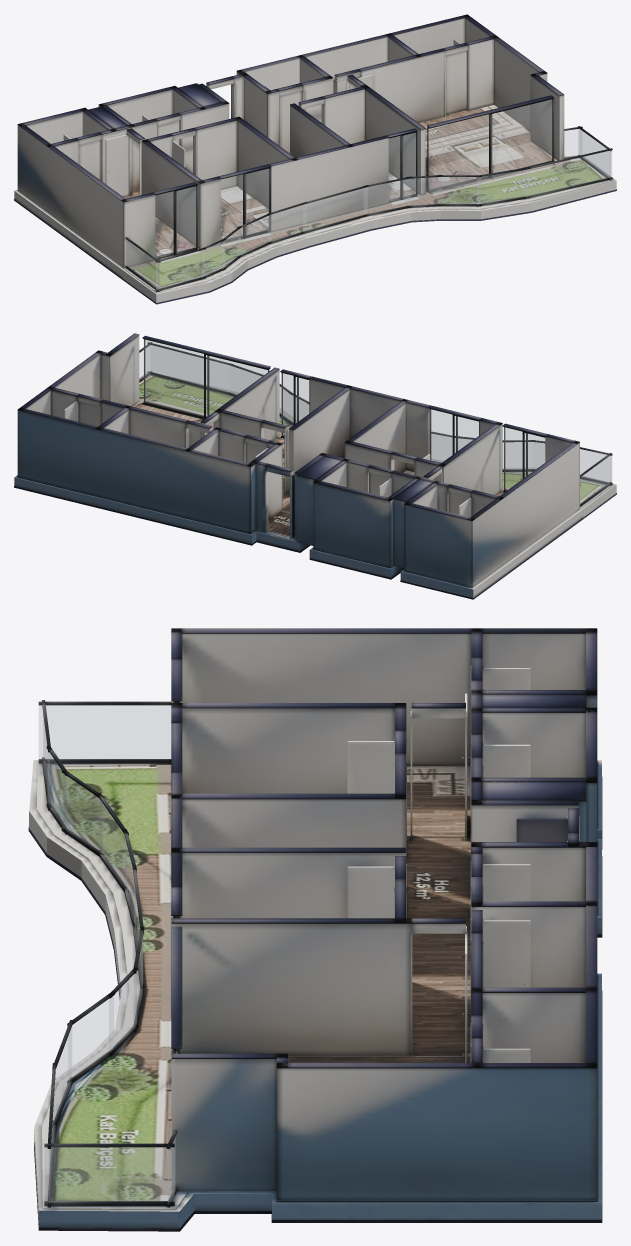
3 views of the same model, one above another, from view 1: azimuth 30°, elevation 25°; view 2: azimuth 150°, elevation 25°; view 3: azimuth 270°, elevation 25° (orthographic). The views are drawn at different scales.
Visible parts, largest first — view 1: plan, glass3_m, glass1_m, glass0_m, railg3_m, railg9_m, railg4_m, glass2_m, railg8_m, railg7_m, railg5_m, railg10_m (+7 smaller); view 2: plan, glass3_m, railg3_m, glass0_m, glass1_m, glass2_m, railg2_m, railg8_m, railg12_m, railg10_m, railg4_m; view 3: plan, railg1_m, railg2_m, railg5_m, railg12_m, railg6_m, railg11_m, railg13_m, railg4_m.
Part boxes in pixels (x1,y1,x2,y2): plan: (14, 14, 616, 304); glass3_m: (428, 99, 551, 190); glass1_m: (221, 169, 268, 239); glass0_m: (155, 186, 195, 257); railg3_m: (525, 151, 611, 196); railg9_m: (303, 187, 367, 231); railg4_m: (477, 169, 529, 204); glass2_m: (389, 133, 415, 200); railg8_m: (156, 250, 205, 289); railg7_m: (364, 179, 410, 214); railg5_m: (437, 177, 481, 203); railg10_m: (268, 204, 306, 241); plan: (14, 333, 616, 599); glass3_m: (144, 339, 267, 416); railg3_m: (151, 345, 228, 391); glass0_m: (504, 427, 544, 490); glass1_m: (430, 409, 478, 462); glass2_m: (281, 373, 308, 435); railg2_m: (580, 456, 610, 504); railg8_m: (580, 449, 611, 482); railg12_m: (503, 442, 531, 469); railg10_m: (432, 434, 451, 462); railg4_m: (232, 366, 261, 394); plan: (28, 628, 602, 1231); railg1_m: (44, 1147, 174, 1201); railg2_m: (39, 705, 170, 759); railg5_m: (69, 996, 113, 1080); railg12_m: (63, 774, 102, 853); railg6_m: (109, 972, 136, 1052); railg11_m: (99, 799, 126, 889); railg13_m: (48, 752, 67, 830); railg4_m: (54, 1028, 71, 1123).
Size of the model in its own units: 16.57 by 2.62 by 8.89.
2 materials, 1 textured.
